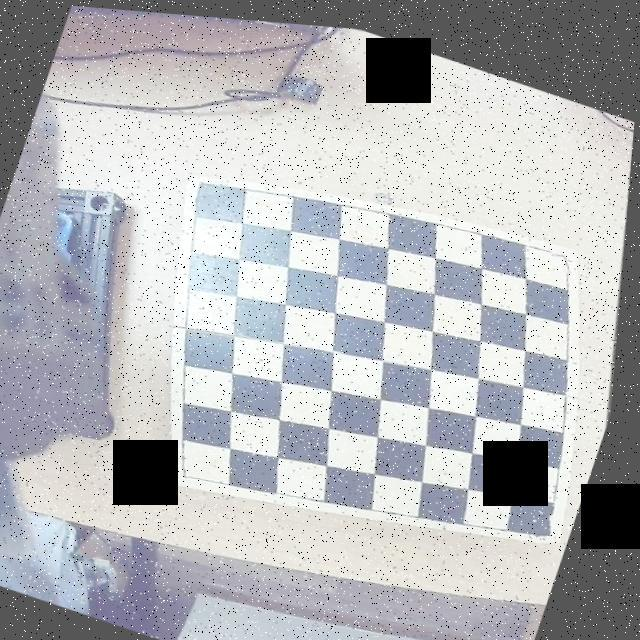chess-table-corners: (530, 497, 576, 541), (172, 443, 218, 487), (182, 167, 228, 211), (547, 232, 589, 270)
